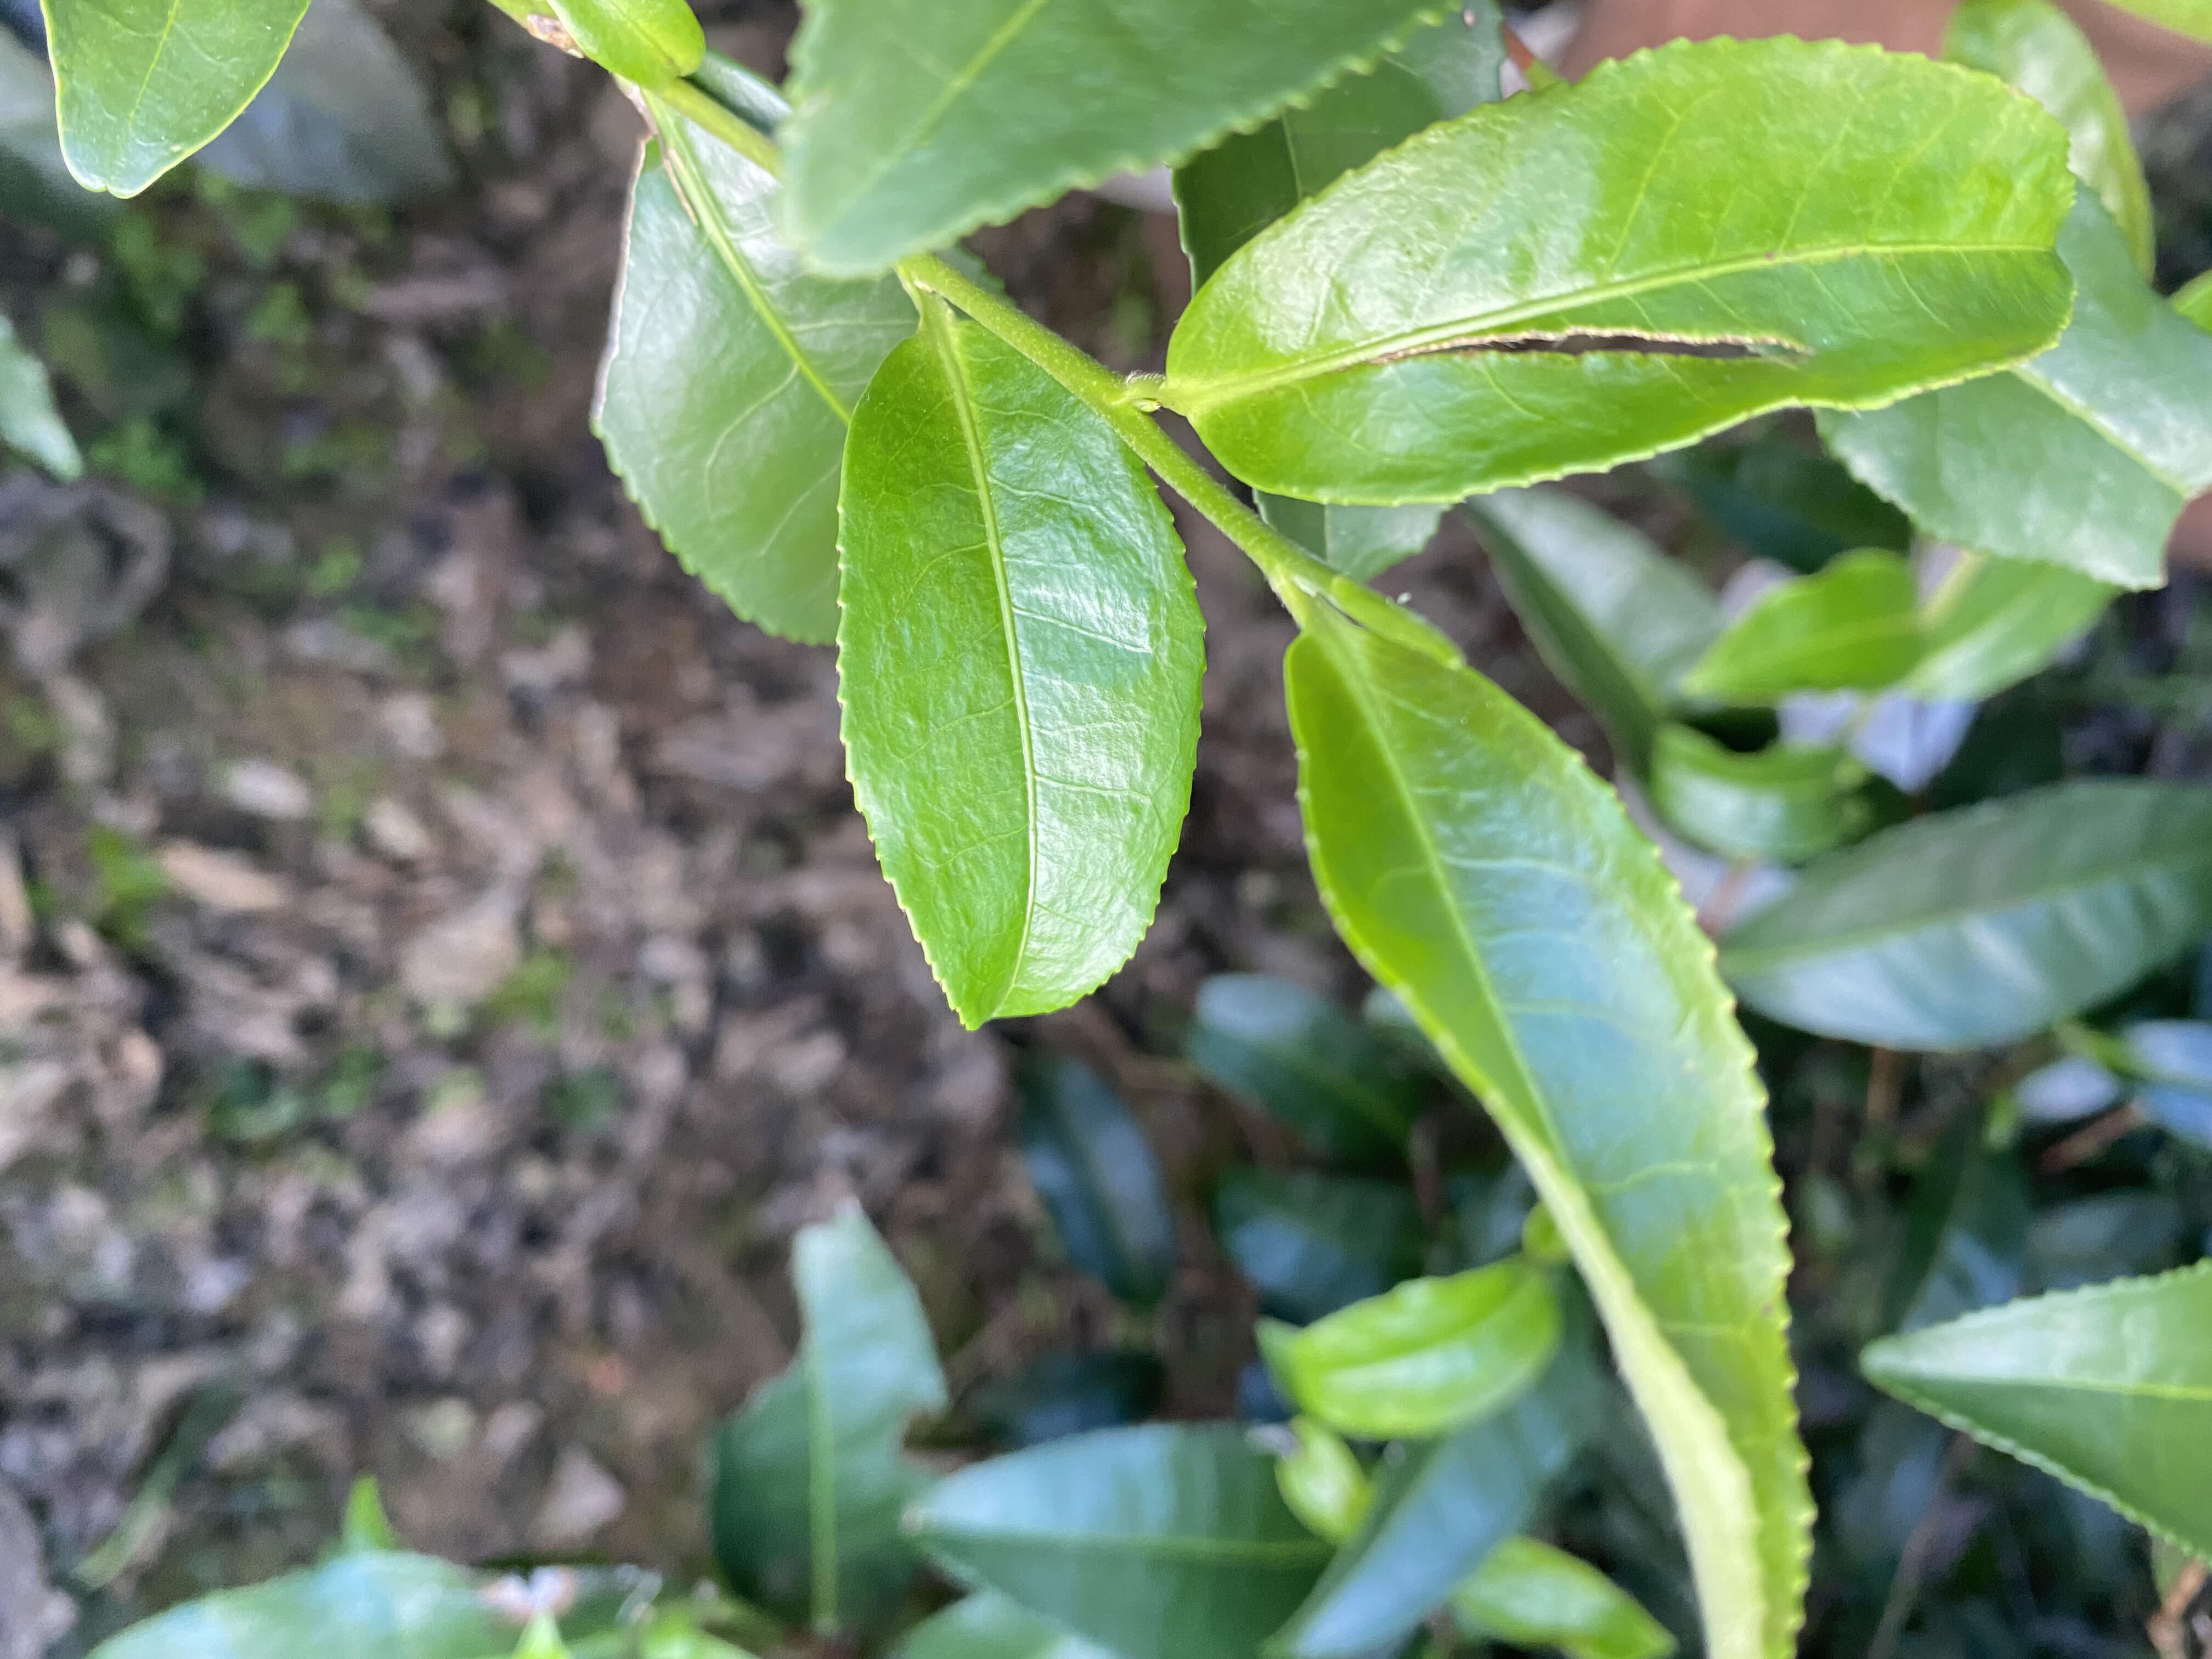chihuo_high: (587, 78, 914, 650)
chihuo_low: (1158, 28, 2081, 511)
healthy: (1282, 619, 1822, 1657), (833, 319, 1212, 1037)
